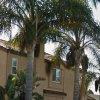Palm tree: (5, 0, 52, 98)
